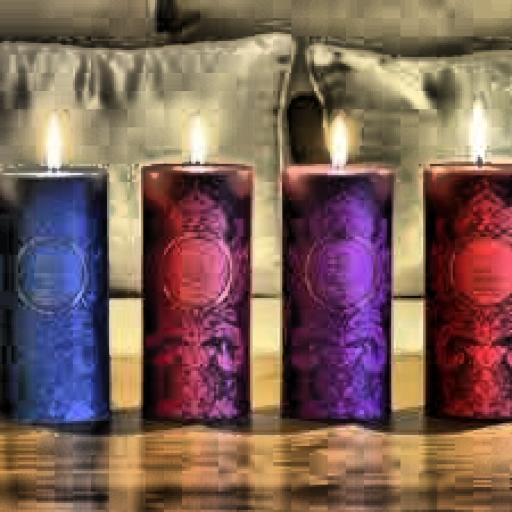fire: (457, 102, 494, 168), (321, 114, 353, 173), (38, 112, 64, 178), (182, 110, 207, 168)
